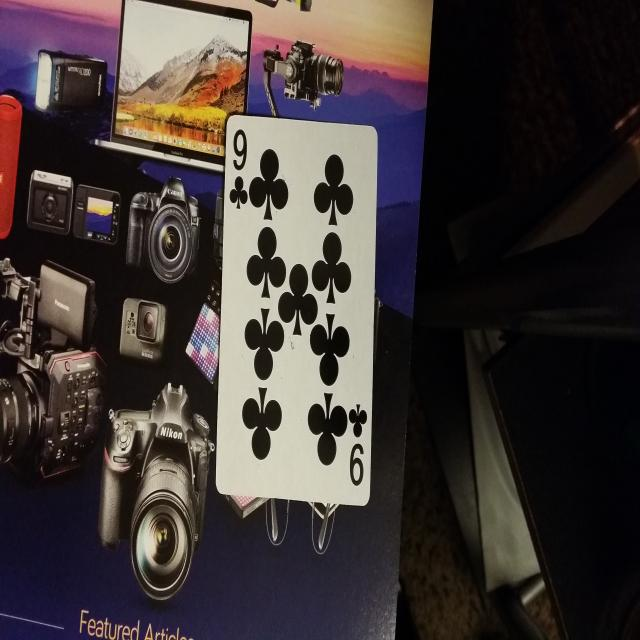9c: (346, 396, 368, 498), (228, 124, 250, 211)
